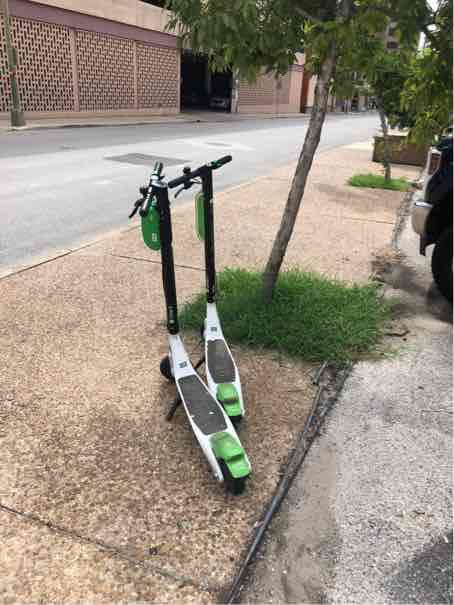scooter: (125, 161, 254, 488)
